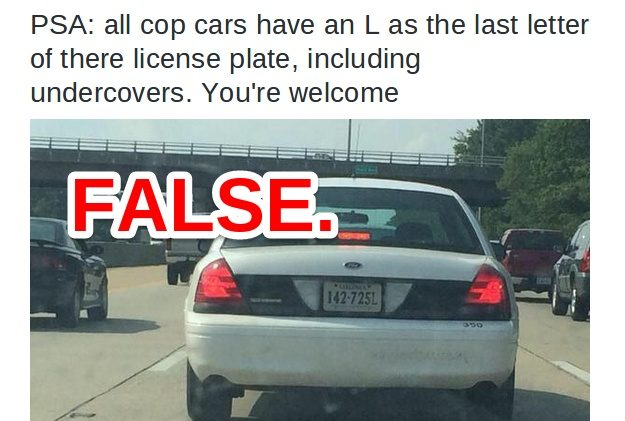license plate: (320, 274, 383, 316)
